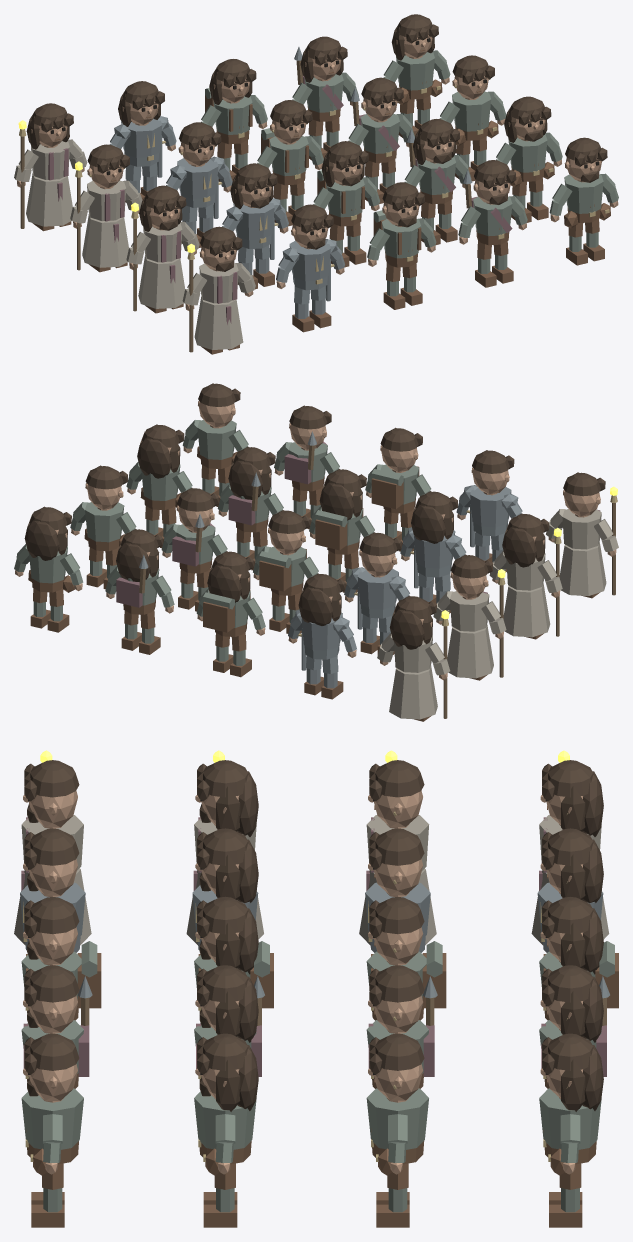
The model's file is npc_20_presets_preview.glb.
3 renders of one model, top to bottom at view 1: azimuth 30°, elevation 25°; view 2: azimuth 150°, elevation 25°; view 3: azimuth 270°, elevation 25°, orthographic. The views are drawn at different scales.
Visible parts, largest first — view 1: NPC_PRIEST_M_SHORT__skirt, NPC_PRIEST_F_LONG__skirt, NPC_PRIEST_F_SHORT__skirt, NPC_PRIEST_M_LONG__skirt, NPC_PRIEST_F_SHORT__torso, NPC_KNIGHT_F_SHORT__torso, NPC_PRIEST_M_SHORT__torso, NPC_MERCHANT_F_SHORT__torso, NPC_PRIEST_F_LONG__torso, NPC_RAIDER_F_LONG__hair, NPC_ADVENTURER_F_LONG__hair, NPC_MERCHANT_F_LONG__hair (+52 smaller); view 2: NPC_PRIEST_F_LONG__skirt, NPC_PRIEST_M_LONG__skirt, NPC_PRIEST_F_SHORT__skirt, NPC_PRIEST_M_SHORT__skirt, NPC_PRIEST_M_LONG__hair, NPC_MERCHANT_F_LONG__hair, NPC_MERCHANT_M_LONG__hair, NPC_PRIEST_F_LONG__hair, NPC_KNIGHT_F_LONG__hair, NPC_KNIGHT_M_LONG__hair, NPC_RAIDER_M_LONG__hair, NPC_ADVENTURER_F_LONG__hair (+48 smaller); view 3: NPC_MERCHANT_F_LONG__hair, NPC_MERCHANT_M_LONG__hair, NPC_RAIDER_F_LONG__hair, NPC_PRIEST_F_LONG__hair, NPC_RAIDER_M_LONG__hair, NPC_PRIEST_M_LONG__hair, NPC_KNIGHT_F_LONG__hair, NPC_ADVENTURER_F_LONG__hair, NPC_KNIGHT_M_LONG__hair, NPC_ADVENTURER_M_LONG__hair, NPC_MERCHANT_F_SHORT__torso, NPC_MERCHANT_M_SHORT__torso (+44 smaller).
Boxes of the visible parts, x1,y1,x2,y2 form: NPC_PRIEST_M_SHORT__skirt: [194, 296, 243, 349]; NPC_PRIEST_F_LONG__skirt: [26, 172, 72, 226]; NPC_PRIEST_F_SHORT__skirt: [82, 213, 128, 267]; NPC_PRIEST_M_LONG__skirt: [138, 255, 185, 308]; NPC_PRIEST_F_SHORT__torso: [87, 180, 126, 221]; NPC_KNIGHT_F_SHORT__torso: [177, 157, 218, 198]; NPC_PRIEST_M_SHORT__torso: [199, 263, 238, 303]; NPC_MERCHANT_F_SHORT__torso: [452, 91, 491, 131]; NPC_PRIEST_F_LONG__torso: [30, 141, 69, 180]; NPC_RAIDER_F_LONG__hair: [300, 36, 347, 82]; NPC_ADVENTURER_F_LONG__hair: [209, 59, 256, 104]; NPC_MERCHANT_F_LONG__hair: [391, 14, 438, 60]; NPC_PRIEST_F_LONG__skirt: [389, 665, 437, 719]; NPC_PRIEST_M_LONG__skirt: [503, 583, 550, 637]; NPC_PRIEST_F_SHORT__skirt: [447, 624, 493, 678]; NPC_PRIEST_M_SHORT__skirt: [559, 542, 606, 595]; NPC_PRIEST_M_LONG__hair: [502, 513, 549, 567]; NPC_MERCHANT_F_LONG__hair: [24, 506, 71, 560]; NPC_MERCHANT_M_LONG__hair: [137, 424, 184, 478]; NPC_PRIEST_F_LONG__hair: [389, 595, 436, 649]; NPC_KNIGHT_F_LONG__hair: [298, 573, 345, 625]; NPC_KNIGHT_M_LONG__hair: [411, 491, 457, 543]; NPC_RAIDER_M_LONG__hair: [228, 446, 275, 499]; NPC_ADVENTURER_F_LONG__hair: [207, 551, 254, 602]; NPC_MERCHANT_F_LONG__hair: [542, 1033, 603, 1111]; NPC_MERCHANT_M_LONG__hair: [197, 1033, 258, 1111]; NPC_RAIDER_F_LONG__hair: [542, 965, 603, 1042]; NPC_PRIEST_F_LONG__hair: [542, 760, 603, 836]; NPC_RAIDER_M_LONG__hair: [197, 965, 258, 1042]; NPC_PRIEST_M_LONG__hair: [197, 760, 258, 836]; NPC_KNIGHT_F_LONG__hair: [542, 828, 603, 903]; NPC_ADVENTURER_F_LONG__hair: [542, 897, 603, 974]; NPC_KNIGHT_M_LONG__hair: [197, 828, 258, 903]; NPC_ADVENTURER_M_LONG__hair: [197, 896, 258, 974]; NPC_MERCHANT_F_SHORT__torso: [366, 1088, 428, 1149]; NPC_MERCHANT_M_SHORT__torso: [21, 1088, 83, 1149].
Bounding box in the file's own units: 7.15 × 1.84 × 5.61.
